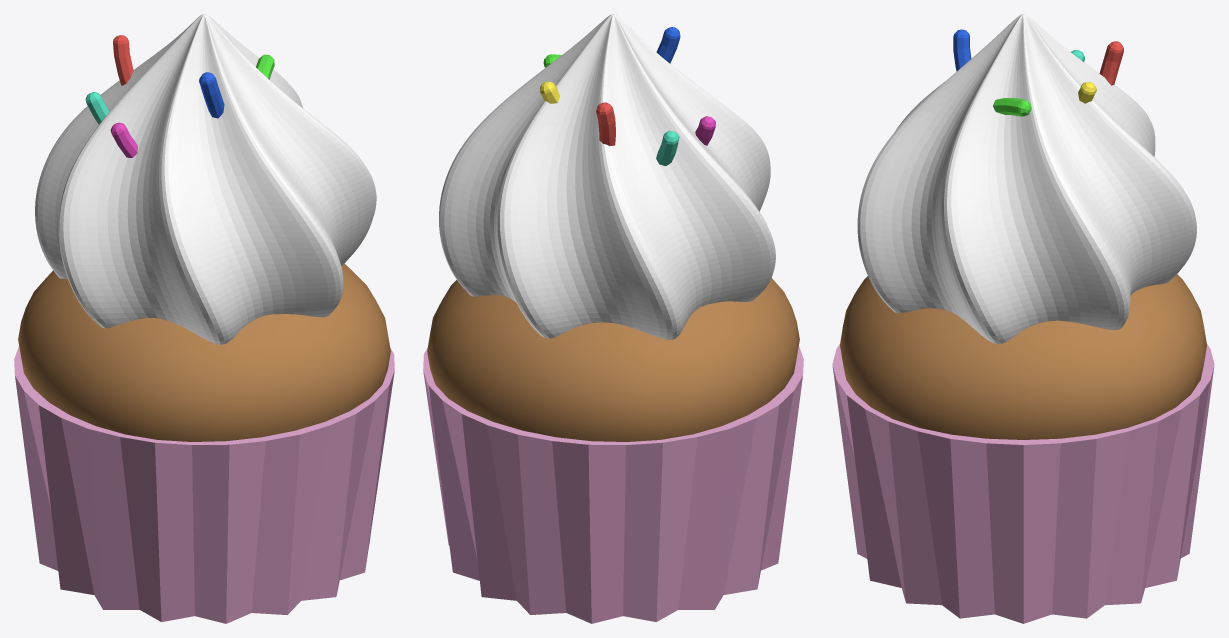
Rendered from Texturizado_Muffin_001.glb.
3 views of the same model, side by side, from view 1: azimuth 30°, elevation 25°; view 2: azimuth 150°, elevation 25°; view 3: azimuth 270°, elevation 25° (orthographic).
Visible parts, largest first — view 1: Mesh_Cupcake; view 2: Mesh_Cupcake; view 3: Mesh_Cupcake.
Boxes of the visible parts, x1,y1,x2,y2 form: Mesh_Cupcake: [14, 14, 394, 623]; Mesh_Cupcake: [423, 14, 803, 623]; Mesh_Cupcake: [832, 14, 1214, 623].
Bounding box in the file's own units: 2.3 × 3.58 × 2.3.
